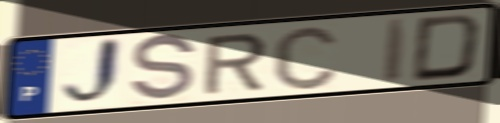C: (270, 23, 340, 92)
D: (409, 12, 486, 84)
I: (381, 16, 412, 85)
J: (58, 35, 123, 111)
R: (201, 30, 270, 97)
S: (127, 31, 199, 105)
